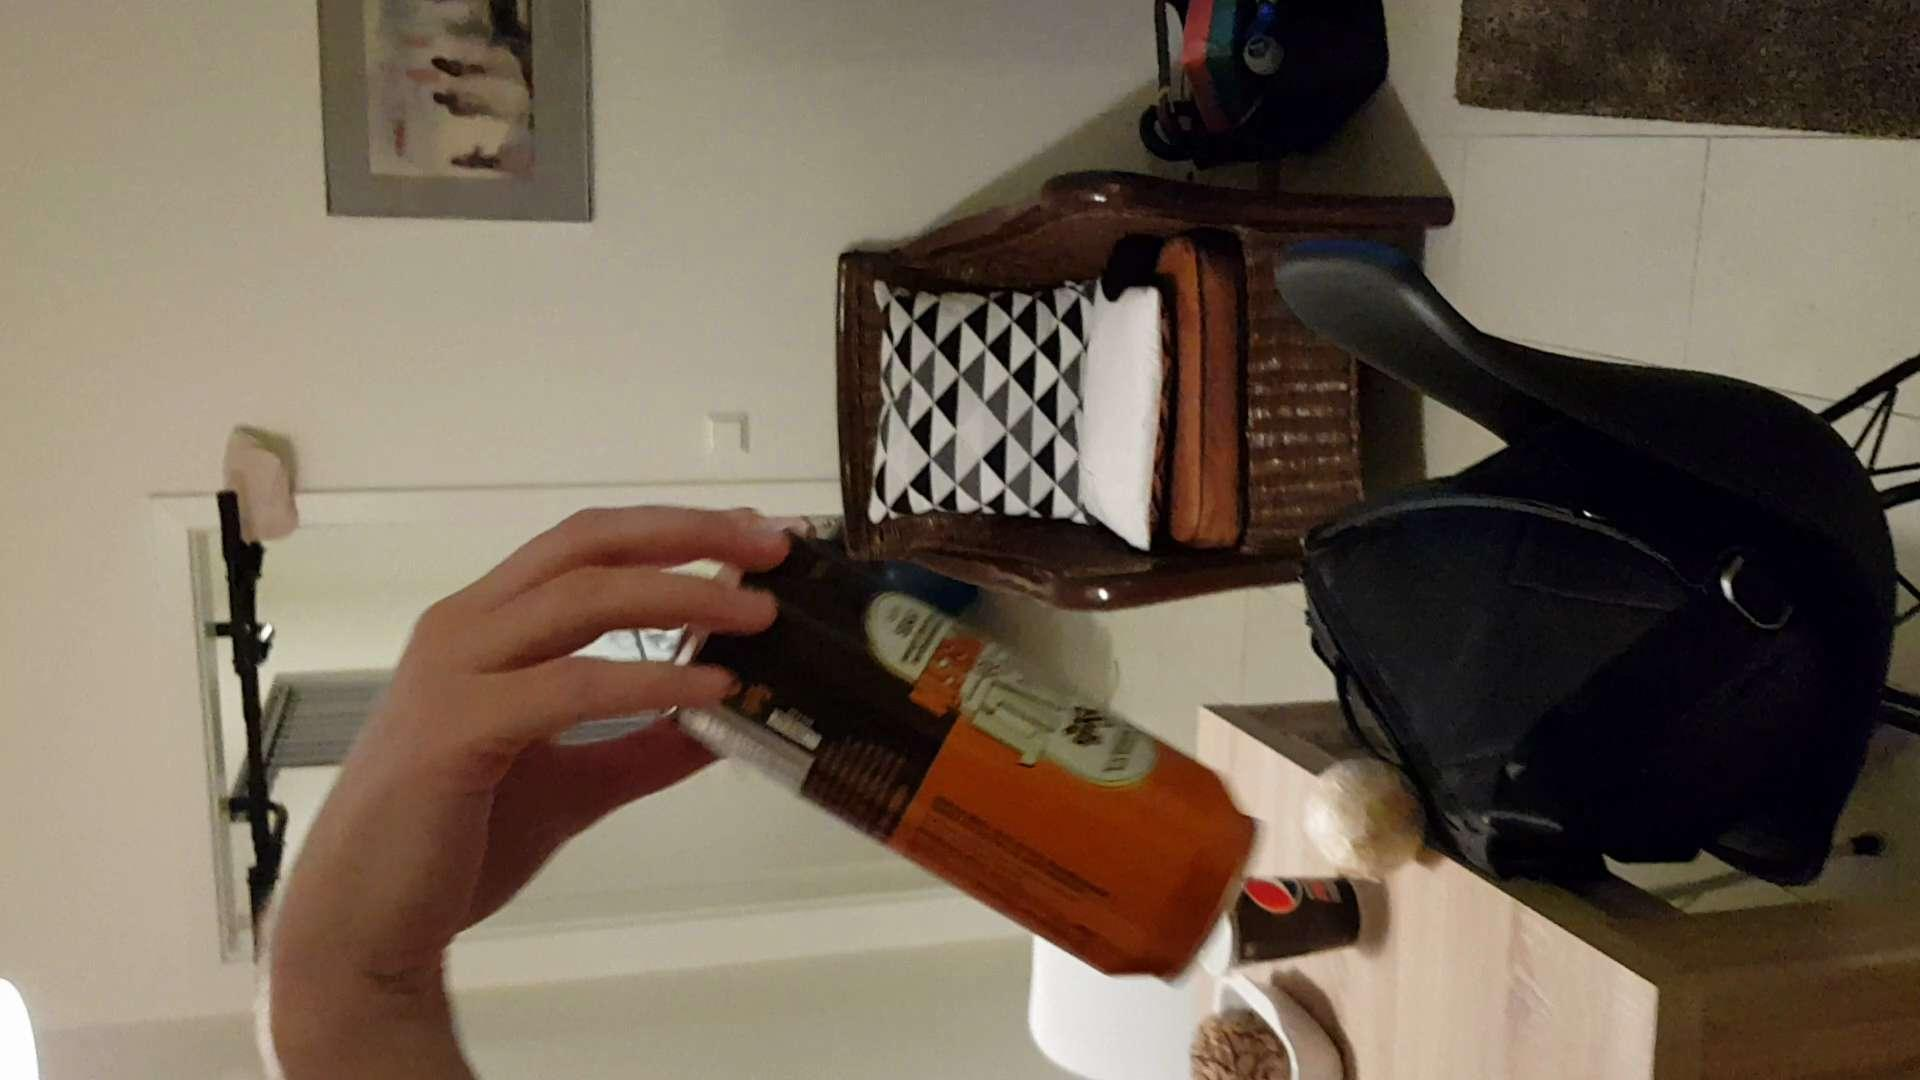Can: (676, 512, 1261, 972)
